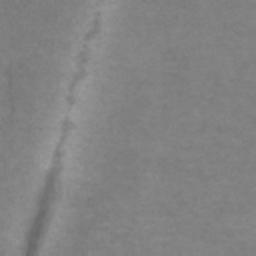Finishing roll printing: (116, 76, 201, 256), (191, 28, 207, 45), (188, 47, 200, 59)
